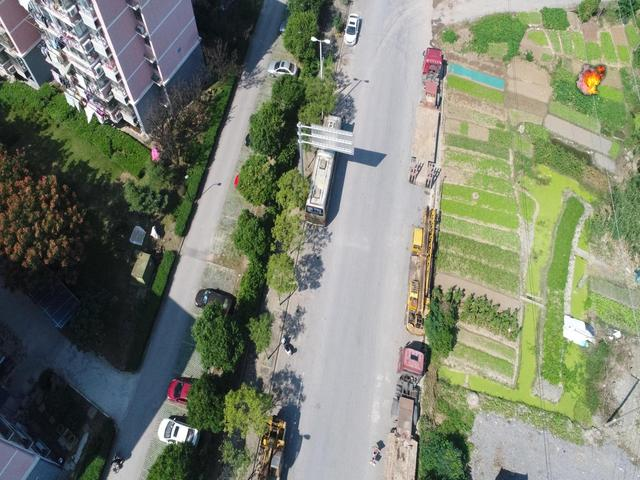fire: (575, 62, 606, 96)
